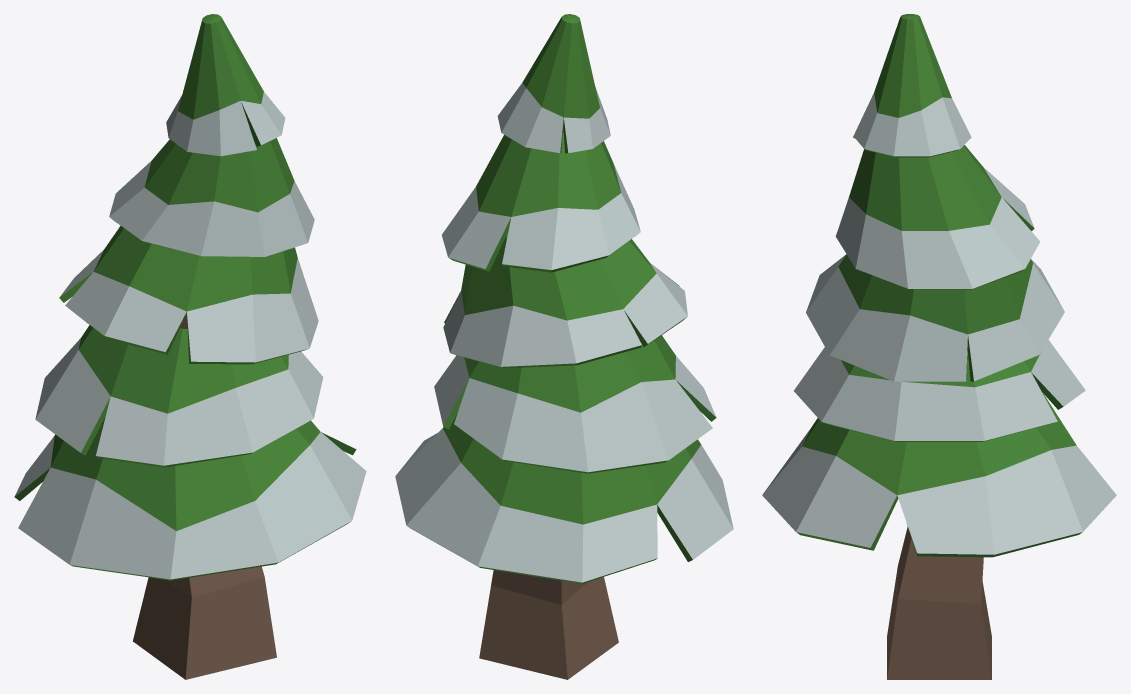
Rendered from snowypinetree.fbx.
The picture shows the model from 3 angles, left to right: view 1: azimuth 30°, elevation 25°; view 2: azimuth 150°, elevation 25°; view 3: azimuth 270°, elevation 25°; orthographic projection. The views are drawn at different scales.
Visible parts, largest first — view 1: snowy_pinetree; view 2: snowy_pinetree; view 3: snowy_pinetree.
Boxes of the visible parts, box(x1,y1,x2,y2) form: snowy_pinetree: box(14, 14, 366, 679); snowy_pinetree: box(395, 14, 733, 679); snowy_pinetree: box(762, 14, 1116, 679).
Bounding box in the file's own units: 2.91 × 2.92 × 5.81.
